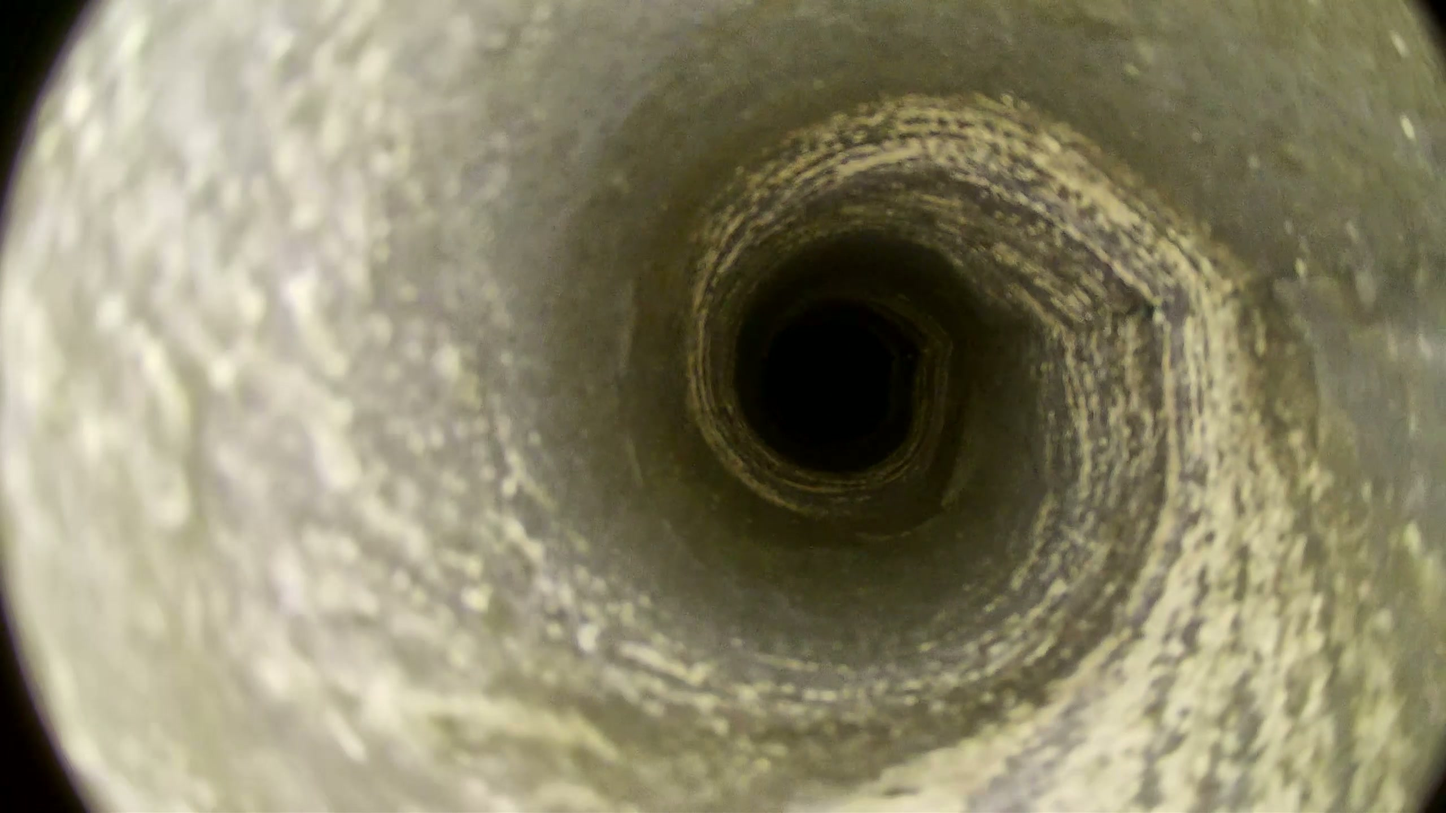hole: (768, 321, 895, 442)
